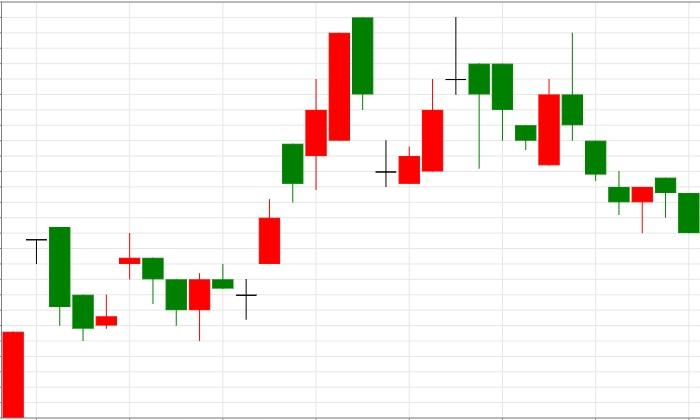bullish_engulfing_rise: (445, 17, 561, 169)
